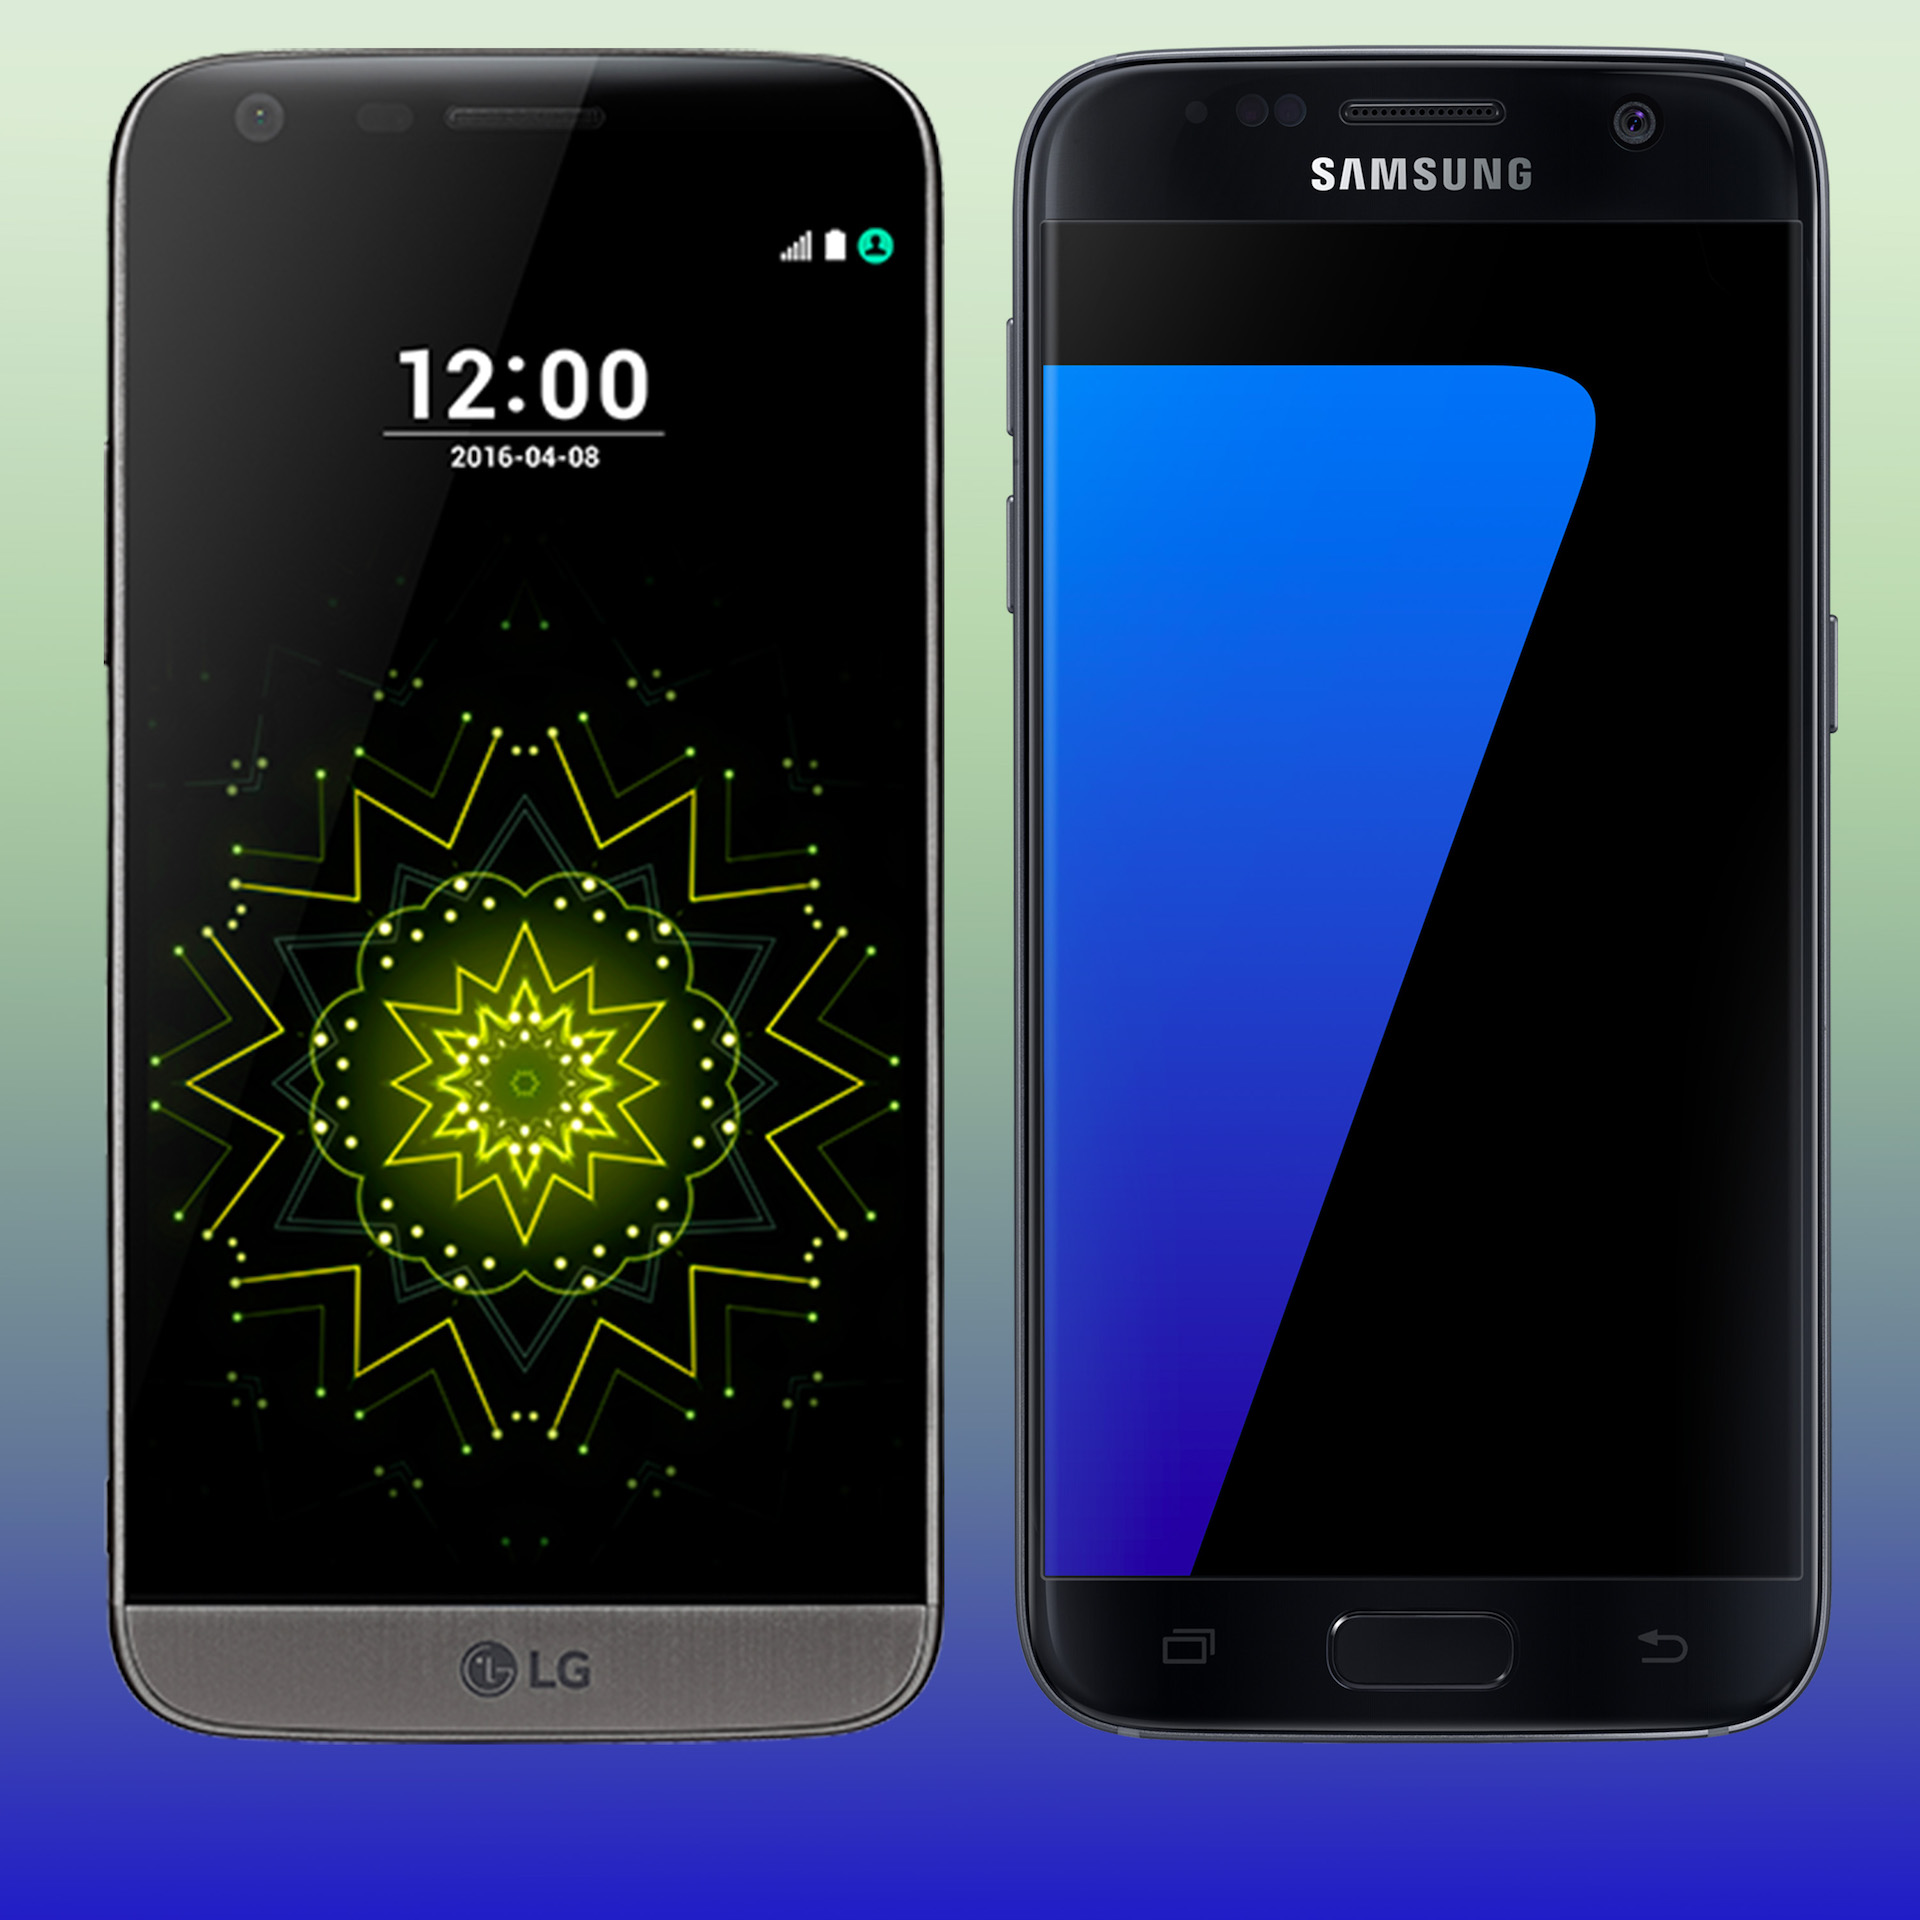smartphone: (102, 40, 948, 1748), (999, 47, 1844, 1748)
